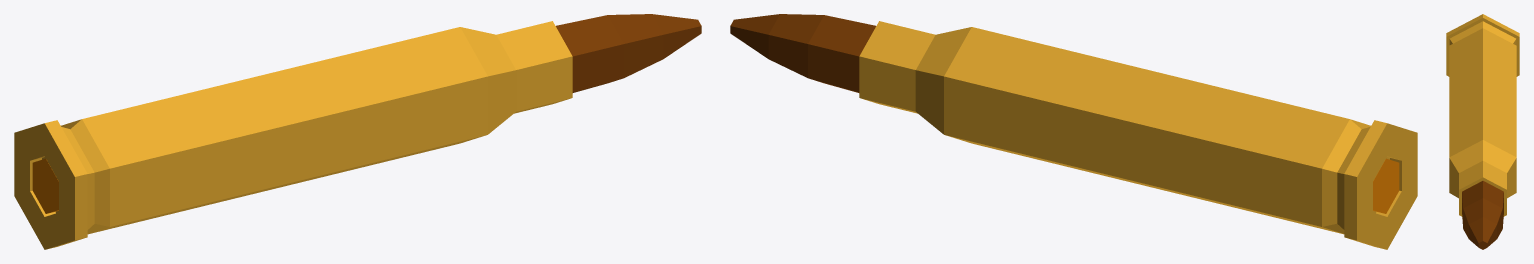
Rendered from 556_alive.glb.
The picture shows the model from 3 angles, left to right: view 1: azimuth 30°, elevation 25°; view 2: azimuth 150°, elevation 25°; view 3: azimuth 270°, elevation 25°; orthographic projection. The views are drawn at different scales.
Parts seen in each view (by area): view 1: Body.001; view 2: Body.001; view 3: Body.001.
Boxes of the visible parts, x1,y1,x2,y2 form: Body.001: (14, 14, 701, 249); Body.001: (730, 14, 1417, 249); Body.001: (1446, 14, 1519, 249).
Size of the model in its own units: 0.6579 by 0.122 by 0.1056.
